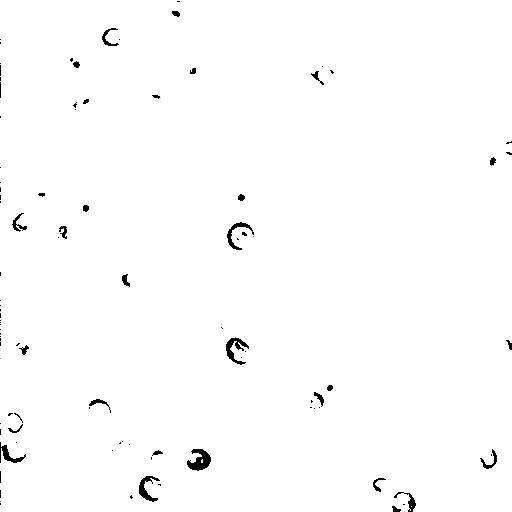micro-algae: (355, 1, 445, 83), (335, 434, 406, 501), (48, 89, 122, 152), (186, 384, 248, 447), (43, 120, 104, 182), (32, 328, 89, 386), (1, 45, 49, 111), (459, 38, 512, 96), (14, 88, 67, 145), (145, 349, 200, 402), (29, 0, 104, 31), (39, 417, 88, 464), (206, 349, 254, 395), (207, 14, 245, 54), (127, 393, 167, 431), (474, 144, 509, 182), (158, 392, 197, 423), (304, 56, 340, 89), (58, 47, 91, 80), (180, 53, 211, 86), (467, 89, 495, 123), (163, 1, 198, 27), (25, 177, 55, 207), (226, 222, 256, 252), (225, 336, 255, 366), (1, 481, 30, 511), (138, 474, 169, 502), (200, 0, 241, 21), (73, 94, 102, 121), (86, 399, 113, 426), (185, 447, 213, 472), (68, 196, 98, 219), (10, 339, 36, 365), (3, 440, 29, 465), (315, 370, 340, 396), (114, 484, 142, 507), (390, 489, 418, 512), (220, 448, 245, 472), (476, 445, 499, 471), (11, 211, 34, 236), (101, 27, 126, 49), (265, 91, 288, 114), (121, 265, 144, 288), (5, 411, 26, 434), (109, 438, 133, 457), (371, 476, 393, 496), (54, 226, 77, 244), (306, 391, 325, 411), (149, 450, 168, 467), (435, 70, 451, 87), (234, 192, 252, 206), (503, 326, 511, 352), (505, 417, 511, 446), (503, 139, 512, 156)
